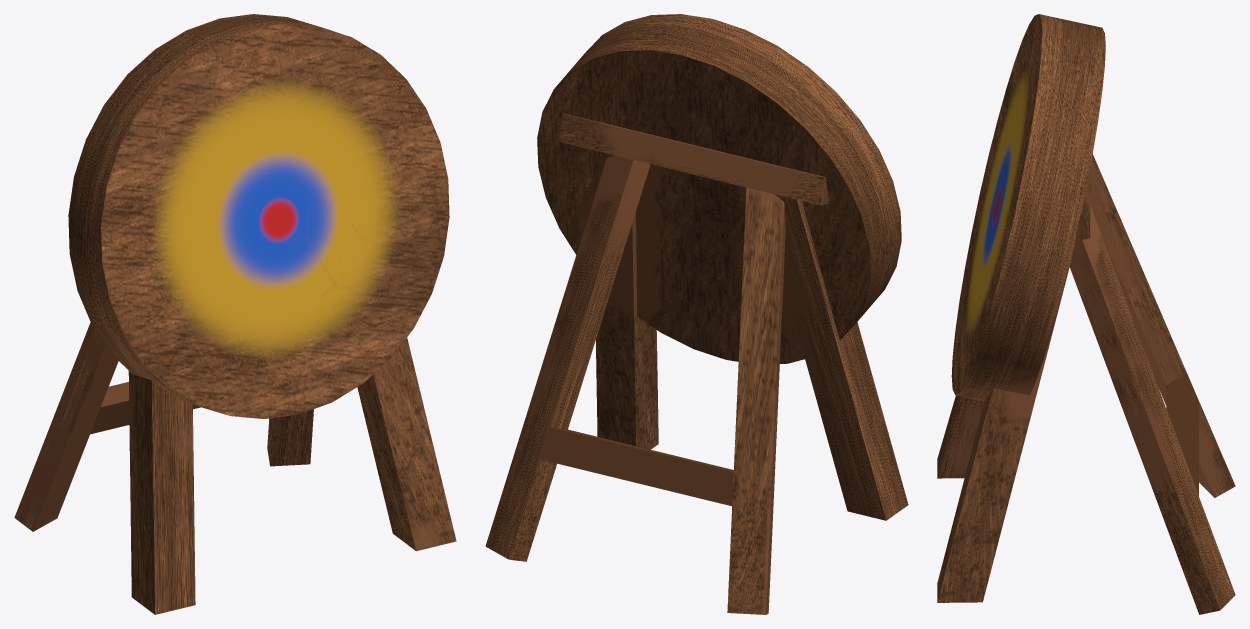
Rendered from Target_Model.fbx.
3 renders of one model, left to right at view 1: azimuth 30°, elevation 25°; view 2: azimuth 150°, elevation 25°; view 3: azimuth 270°, elevation 25°, orthographic. The views are drawn at different scales.
Visible parts, largest first — view 1: Cube.002; view 2: Cube.002; view 3: Cube.002.
Part boxes in pixels (bbox=[...]): Cube.002: bbox=[14, 14, 456, 614]; Cube.002: bbox=[485, 14, 908, 614]; Cube.002: bbox=[937, 14, 1235, 614].
Size of the model in its own units: 140 by 205 by 107.
